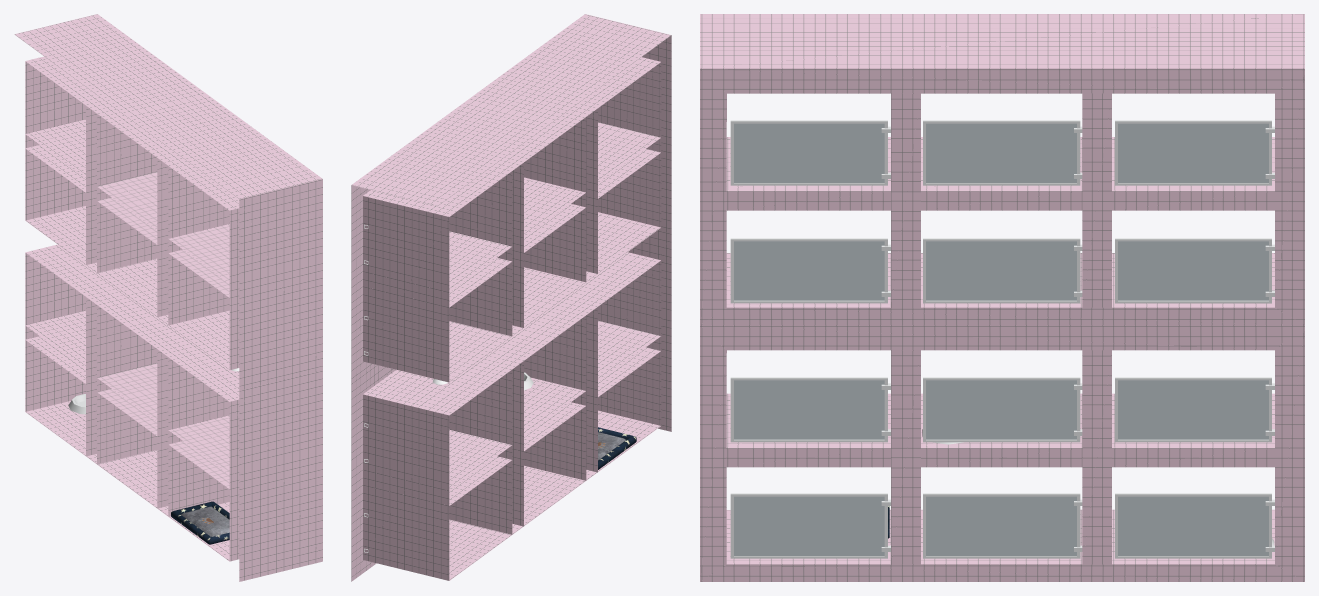
File: M_jiyanggui01.FBX
3 renders of one model, left to right at view 1: azimuth 30°, elevation 25°; view 2: azimuth 150°, elevation 25°; view 3: azimuth 270°, elevation 25°, orthographic. The views are drawn at different scales.
Parts seen in each view (by area): view 1: M_jiyanggui01_01, M_jiyanggui01_05; view 2: M_jiyanggui01_01, M_jiyanggui01_05; view 3: M_jiyanggui01_01, M_jiyanggui01_03, M_jiyanggui01_02.
Part boxes in pixels (x1,y1,x2,y2): M_jiyanggui01_01: (14,14,322,581); M_jiyanggui01_05: (171,501,229,544); M_jiyanggui01_01: (351,14,671,581); M_jiyanggui01_05: (598,427,636,469); M_jiyanggui01_01: (700,14,1304,581); M_jiyanggui01_03: (734,123,1268,555); M_jiyanggui01_02: (730,120,1274,558).
Size of the model in its own units: 0.9026 by 3.95 by 4.22.
